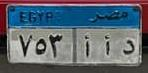3: (49, 32, 64, 59)
5: (35, 37, 47, 56)
7: (18, 33, 33, 59)
alif: (102, 32, 115, 60), (81, 33, 93, 59)
daal: (120, 35, 137, 59)
